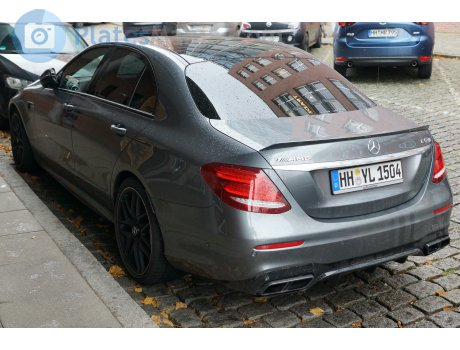License Plates: (338, 170, 396, 179)
